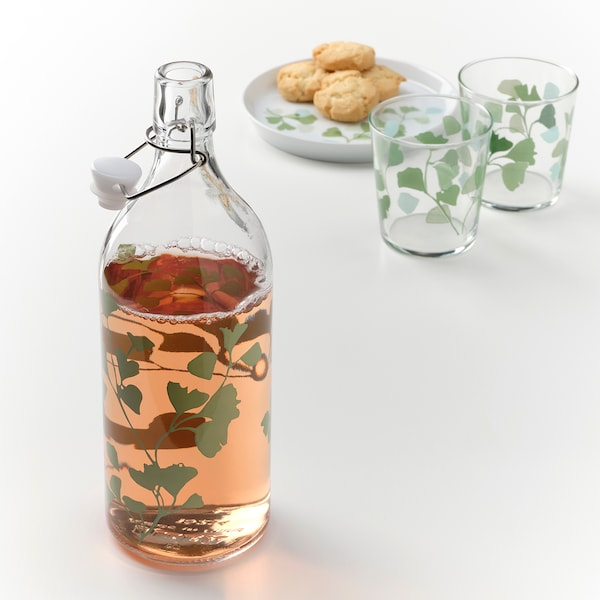glass_bottle: (94, 56, 278, 574)
